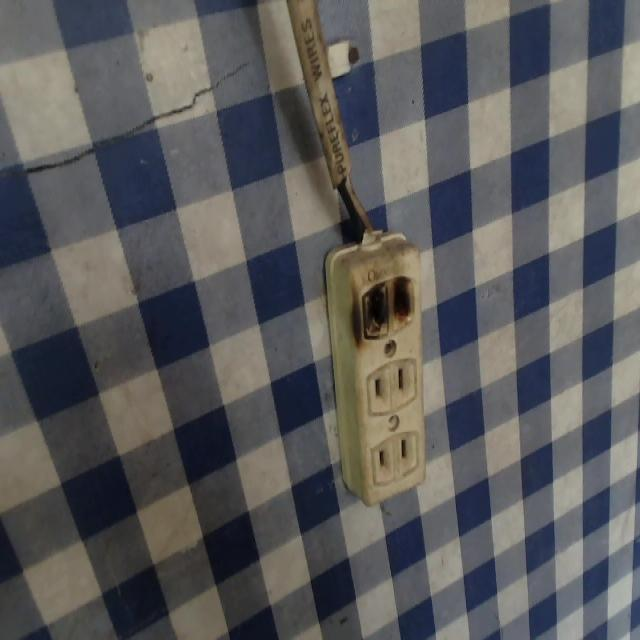-: (344, 267, 419, 336)
